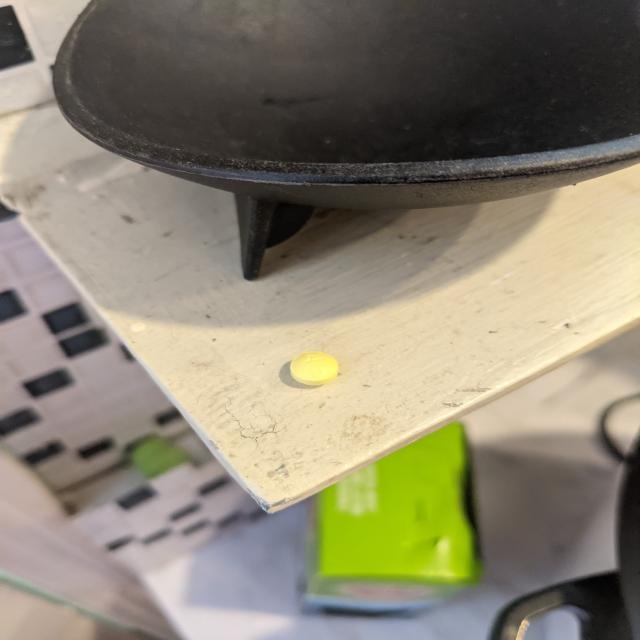non-organic waste: (289, 351, 339, 386)
